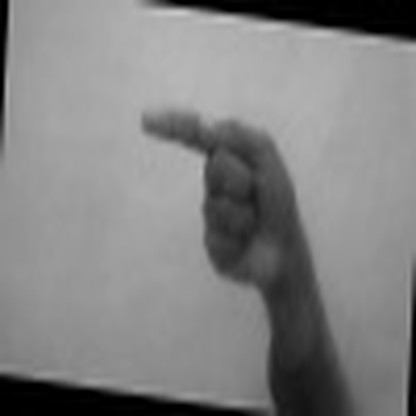g: (109, 103, 356, 292)
